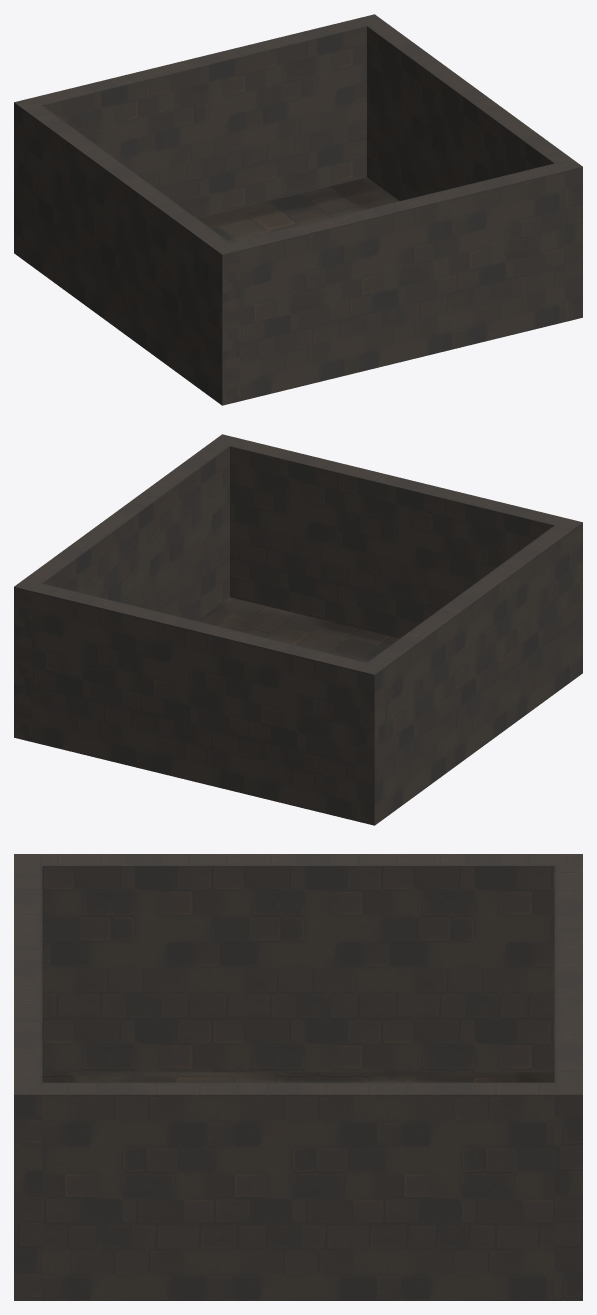
3 views of the same model, one above another, from view 1: azimuth 30°, elevation 25°; view 2: azimuth 150°, elevation 25°; view 3: azimuth 270°, elevation 25° (orthographic). The views are drawn at different scales.
Visible parts, largest first — view 1: Wall_Top, Wall_Bottom, Wall_Right, Wall_Left, Ground, Cap_NE; view 2: Wall_Bottom, Wall_Top, Wall_Right, Wall_Left, Ground, Cap_SW; view 3: Wall_Left, Wall_Right, Wall_Top, Wall_Bottom, Ground.
Boxes of the visible parts, x1,y1,x2,y2 form: Wall_Top: [212, 160, 582, 405]; Wall_Bottom: [14, 14, 383, 260]; Wall_Right: [24, 105, 238, 405]; Wall_Left: [357, 14, 582, 321]; Ground: [197, 177, 399, 242]; Cap_NE: [220, 245, 239, 405]; Wall_Bottom: [14, 582, 384, 825]; Wall_Top: [212, 434, 582, 638]; Wall_Right: [356, 522, 582, 825]; Wall_Left: [14, 435, 238, 741]; Ground: [197, 597, 399, 662]; Cap_SW: [14, 582, 40, 741]; Wall_Left: [14, 1082, 582, 1300]; Wall_Right: [14, 854, 582, 1072]; Wall_Top: [14, 854, 42, 1300]; Wall_Bottom: [554, 854, 582, 1300]; Ground: [42, 1072, 554, 1082].
Size of the model in its own units: 2000 by 800 by 2000.
